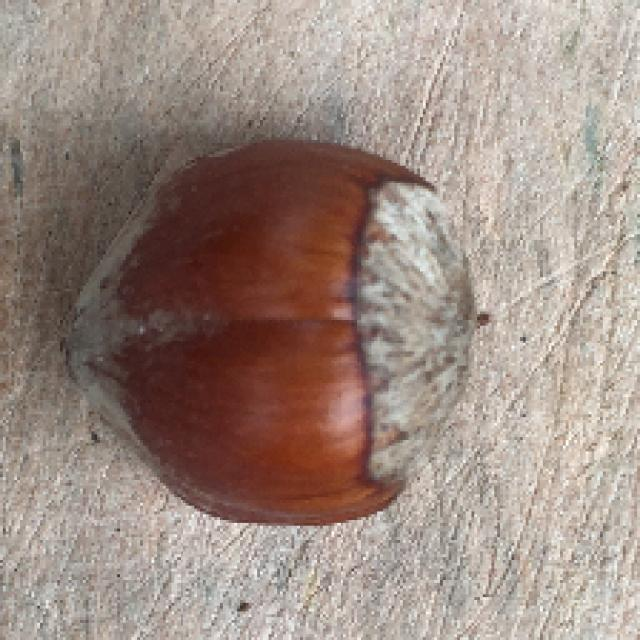qualityHazelnut: (60, 133, 477, 529)
